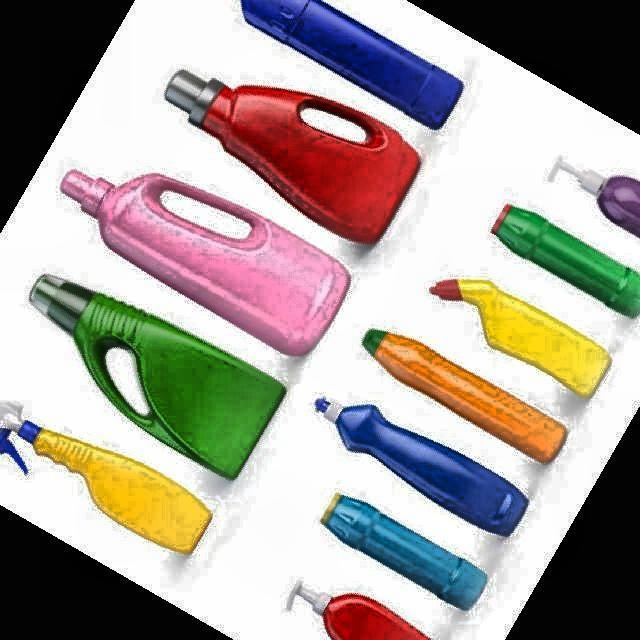plastic: (61, 170, 350, 355), (31, 276, 285, 478), (165, 70, 420, 242), (0, 403, 211, 552), (315, 398, 528, 534), (241, 0, 462, 128), (364, 330, 566, 462), (430, 279, 610, 397), (321, 494, 488, 609), (492, 205, 640, 317), (288, 581, 430, 640), (549, 158, 640, 237)
